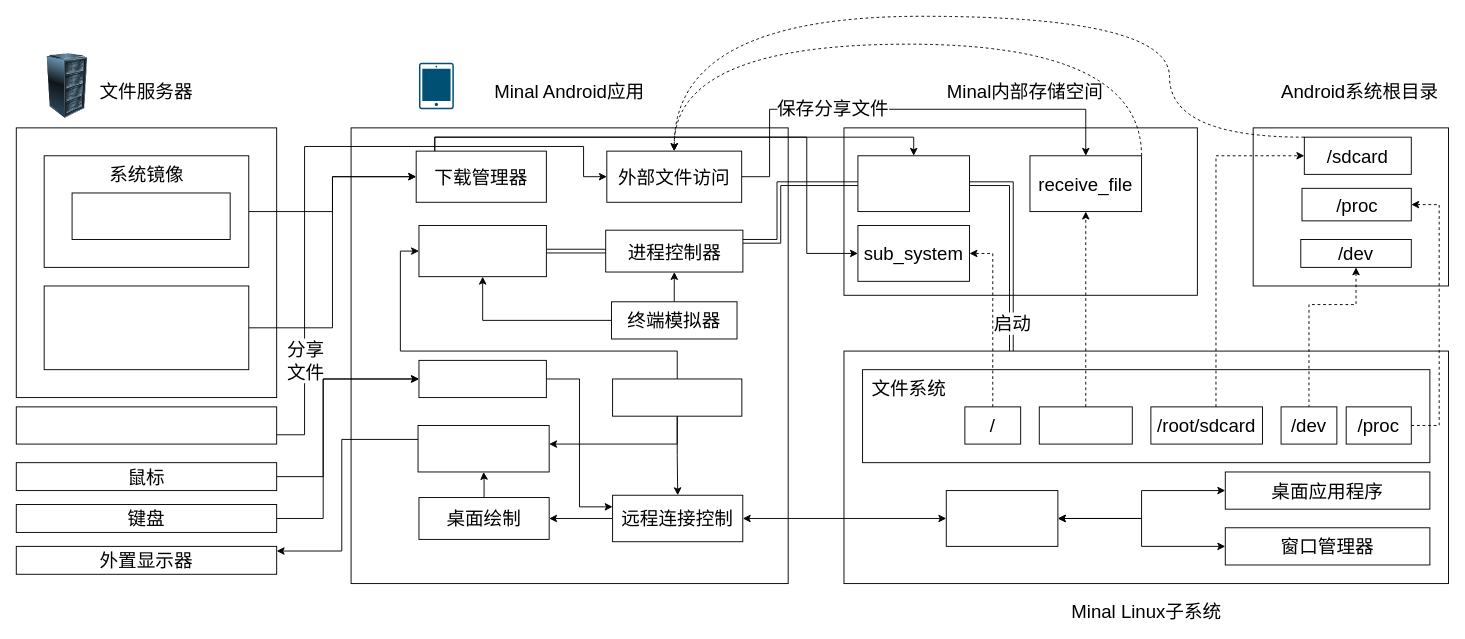
The diagram is 1465 pixels wide and 639 high, and some of its shapes have lost their labels. Here are the shapes that lost their labels. From the top down, the centre of each, then its label:
At (x=913, y=183): "proot".
At (x=150, y=215): "常用桌面应用程序".
At (x=482, y=251): "子系统命令执行器".
At (x=146, y=327): "PRoot for ARM".
At (x=482, y=378): "输入管理器".
At (x=677, y=397): "生命周期管理".
At (x=146, y=425): "其他Android应用".
At (x=1085, y=425): "/root/rev".
At (x=483, y=448): "双屏异显".
At (x=1001, y=518): "VNC Server".
